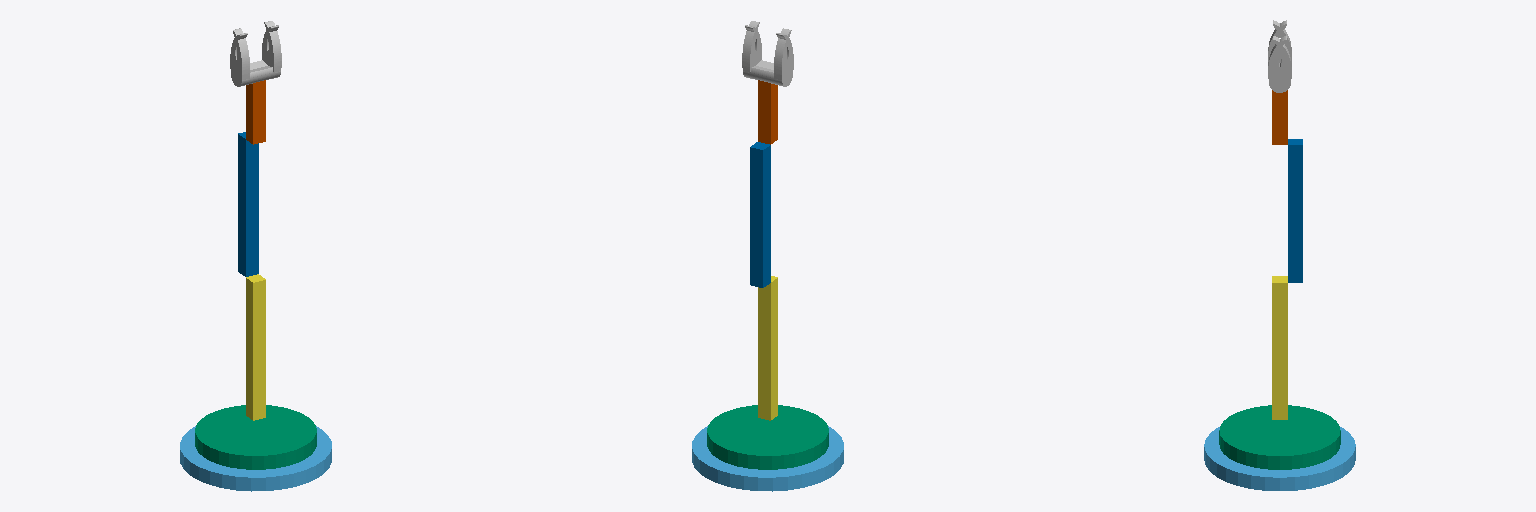
URDF robot description (hdm_robotarm01):
<?xml version="1.0" ?>
<!-- =================================================================================== -->
<!-- |    This document was autogenerated by xacro from model1.xacro                   | -->
<!-- |    EDITING THIS FILE BY HAND IS NOT RECOMMENDED                                 | -->
<!-- =================================================================================== -->
<robot name="hdm_robotarm01">
  <gazebo>
    <plugin filename="libgazebo_ros_control.so" name="gazebo_ros_control">
      <robotNamespace>/</robotNamespace>
    </plugin>
  </gazebo>
  <!-- stationary_base -->
  <gazebo reference="stationary_base">
    <gravity>true</gravity>
    <mu1>0.2</mu1>
    <mu2>0.2</mu2>
    <selfCollide>true</selfCollide>
  </gazebo>
  <!-- spin_base -->
  <gazebo reference="spin_base">
    <gravity>true</gravity>
    <mu1>0.2</mu1>
    <mu2>0.2</mu2>
    <selfCollide>true</selfCollide>
  </gazebo>
  <!-- arm1 -->
  <gazebo reference="arm1">
    <gravity>true</gravity>
    <mu1>0.2</mu1>
    <mu2>0.2</mu2>
    <selfCollide>true</selfCollide>
  </gazebo>
  <!-- arm2 -->
  <gazebo reference="arm2">
    <gravity>true</gravity>
    <mu1>0.2</mu1>
    <mu2>0.2</mu2>
    <selfCollide>true</selfCollide>
  </gazebo>
  <!-- arm3 -->
  <gazebo reference="arm3">
    <gravity>true</gravity>
    <mu1>0.2</mu1>
    <mu2>0.2</mu2>
    <selfCollide>true</selfCollide>
  </gazebo>
  <!-- gripper1 -->
  <gazebo reference="gripper1">
    <gravity>true</gravity>
    <mu1>0.2</mu1>
    <mu2>0.2</mu2>
    <selfCollide>true</selfCollide>
  </gazebo>
  <!-- gripper2 -->
  <gazebo reference="gripper2">
    <gravity>true</gravity>
    <mu1>0.2</mu1>
    <mu2>0.2</mu2>
    <selfCollide>true</selfCollide>
  </gazebo>
  <!-- fix model to world -->
  <link name="world"/>
  <joint name="fixed" type="fixed">
    <parent link="world"/>
    <child link="stationary_base"/>
  </joint>
  <link name="stationary_base">
    <visual>
      <geometry>
        <cylinder length="0.1" radius="0.5"/>
      </geometry>
      <origin rpy="0 0 0" xyz="0 0 0"/>
    </visual>
    <collision>
      <geometry>
        <cylinder length="0.1" radius="0.5"/>
      </geometry>
      <surface>
        <friction>
          <ode>
            <mu>0.5</mu>
            <mu2>0.5</mu2>
          </ode>
        </friction>
        <torsional>
          <coefficient>1</coefficient>
          <surface_radius>1</surface_radius>
          <use_patch_radius>false</use_patch_radius>
        </torsional>
      </surface>
      <origin rpy="0 0 0" xyz="0 0 0"/>
    </collision>
    <inertial>
      <mass value="10.0"/>
      <inertia ixx="0.6333333333333333" ixy="0.0" ixz="0.0" iyy="0.6333333333333333" iyz="0.0" izz="1.25"/>
    </inertial>
  </link>
  <link name="spin_base">
    <visual>
      <geometry>
        <cylinder length="0.1" radius="0.4"/>
      </geometry>
      <origin rpy="0 0 0" xyz="0 0 0.05"/>
    </visual>
    <collision>
      <geometry>
        <cylinder length="0.1" radius="0.4"/>
      </geometry>
      <surface>
        <friction>
          <ode>
            <mu>0.5</mu>
            <mu2>0.5</mu2>
          </ode>
        </friction>
        <torsional>
          <coefficient>1</coefficient>
          <surface_radius>1</surface_radius>
          <use_patch_radius>false</use_patch_radius>
        </torsional>
      </surface>
      <origin rpy="0 0 0" xyz="0 0 0.05"/>
    </collision>
    <inertial>
      <mass value="2.0"/>
      <inertia ixx="0.08166666666666668" ixy="0.0" ixz="0.0" iyy="0.08166666666666668" iyz="0.0" izz="0.16000000000000003"/>
    </inertial>
  </link>
  <joint name="stationary_base_spin_base_joint" type="revolute">
    <axis xyz="0 0 1"/>
    <limit effort="100" lower="-3.14" upper="3.14" velocity="2"/>
    <parent link="stationary_base"/>
    <child link="spin_base"/>
    <origin xyz="0 0 0.06"/>
    <dynamics damping="10.0" friction="0.3"/>
  </joint>
  <transmission name="stationary_base_spin_base_trans">
    <type>
		    	transmission_interface/SimpleTransmission
		    </type>
    <actuator name="stationary_base_spin_base_actuator">
      <hardwareInterface>
                    hardware_interface/EffortJointInterface
                </hardwareInterface>
      <mechanicalReduction>
		    		1
		    	</mechanicalReduction>
    </actuator>
    <joint name="stationary_base_spin_base_joint">
      <hardwareInterface>
                    hardware_interface/EffortJointInterface
                </hardwareInterface>
    </joint>
  </transmission>
  <link name="arm1">
    <visual>
      <geometry>
        <box size="1 0.1 0.1"/>
      </geometry>
      <origin rpy="0 1.57 0" xyz="0 0 0.5"/>
    </visual>
    <collision>
      <geometry>
        <box size="1 0.1 0.1"/>
      </geometry>
      <surface>
        <friction>
          <ode>
            <mu>0.5</mu>
            <mu2>0.5</mu2>
          </ode>
        </friction>
      </surface>
      <origin rpy="0 1.57 0" xyz="0 0 0.5"/>
    </collision>
    <inertial>
      <mass value="0.5"/>
      <inertia ixx="0.0008333333333333335" ixy="0.0" ixz="0.0" iyy="0.042083333333333334" iyz="0.0" izz="0.042083333333333334"/>
    </inertial>
  </link>
  <joint name="spin_base_arm1_joint" type="revolute">
    <axis xyz="0 1 0"/>
    <limit effort="100" lower="-1.57" upper="1.57" velocity="2"/>
    <parent link="spin_base"/>
    <child link="arm1"/>
    <origin xyz="0 0 0.2"/>
    <dynamics damping="10.0" friction="0.3"/>
  </joint>
  <transmission name="spin_base_arm1_trans">
    <type>
		    	transmission_interface/SimpleTransmission
		    </type>
    <actuator name="spin_base_arm1_actuator">
      <hardwareInterface>
                    hardware_interface/EffortJointInterface
                </hardwareInterface>
      <mechanicalReduction>
		    		1
		    	</mechanicalReduction>
    </actuator>
    <joint name="spin_base_arm1_joint">
      <hardwareInterface>
                    hardware_interface/EffortJointInterface
                </hardwareInterface>
    </joint>
  </transmission>
  <link name="arm2">
    <visual>
      <geometry>
        <box size="1 0.1 0.1"/>
      </geometry>
      <origin rpy="0 1.57 0" xyz="0 0.05 0.5"/>
    </visual>
    <collision>
      <geometry>
        <box size="1 0.1 0.1"/>
      </geometry>
      <surface>
        <friction>
          <ode>
            <mu>0.5</mu>
            <mu2>0.5</mu2>
          </ode>
        </friction>
      </surface>
      <origin rpy="0 1.57 0" xyz="0 0.05 0.5"/>
    </collision>
    <inertial>
      <mass value="0.5"/>
      <inertia ixx="0.0008333333333333335" ixy="0.0" ixz="0.0" iyy="0.042083333333333334" iyz="0.0" izz="0.042083333333333334"/>
    </inertial>
  </link>
  <joint name="arm1_arm2_joint" type="revolute">
    <axis xyz="0 1 0"/>
    <limit effort="100" lower="-3.14" upper="3.14" velocity="2"/>
    <parent link="arm1"/>
    <child link="arm2"/>
    <origin xyz="0 0.05 1"/>
    <dynamics damping="10.0" friction="0.3"/>
  </joint>
  <transmission name="arm1_arm2_trans">
    <type>
		    	transmission_interface/SimpleTransmission
		    </type>
    <actuator name="arm1_arm2_actuator">
      <hardwareInterface>
                    hardware_interface/EffortJointInterface
                </hardwareInterface>
      <mechanicalReduction>
		    		1
		    	</mechanicalReduction>
    </actuator>
    <joint name="arm1_arm2_joint">
      <hardwareInterface>
                    hardware_interface/EffortJointInterface
                </hardwareInterface>
    </joint>
  </transmission>
  <link name="arm3">
    <visual>
      <geometry>
        <box size="0.5 0.1 0.1"/>
      </geometry>
      <origin rpy="0 1.57 0" xyz="0 -0.05 0.25"/>
    </visual>
    <collision>
      <geometry>
        <box size="0.5 0.1 0.1"/>
      </geometry>
      <surface>
        <friction>
          <ode>
            <mu>0.5</mu>
            <mu2>0.5</mu2>
          </ode>
        </friction>
      </surface>
      <origin rpy="0 1.57 0" xyz="0 -0.05 0.25"/>
    </collision>
    <inertial>
      <mass value="0.5"/>
      <inertia ixx="0.0008333333333333335" ixy="0.0" ixz="0.0" iyy="0.010833333333333334" iyz="0.0" izz="0.010833333333333334"/>
    </inertial>
  </link>
  <joint name="arm2_arm3_joint" type="revolute">
    <axis xyz="0 1 0"/>
    <limit effort="100" lower="-3.14" upper="3.14" velocity="2"/>
    <parent link="arm2"/>
    <child link="arm3"/>
    <origin xyz="0 0 1"/>
    <dynamics damping="10.0" friction="0.3"/>
  </joint>
  <transmission name="arm2_arm3_trans">
    <type>
		    	transmission_interface/SimpleTransmission
		    </type>
    <actuator name="arm2_arm3_actuator">
      <hardwareInterface>
                    hardware_interface/EffortJointInterface
                </hardwareInterface>
      <mechanicalReduction>
		    		1
		    	</mechanicalReduction>
    </actuator>
    <joint name="arm2_arm3_joint">
      <hardwareInterface>
                    hardware_interface/EffortJointInterface
                </hardwareInterface>
    </joint>
  </transmission>
  <link name="gripper1">
    <visual>
      <geometry>
        <mesh filename="package://hdm_robotarm01/mesh/gripper1.dae" scale="3 3 3"/>
      </geometry>
      <origin rpy="1.57 0 1.57" xyz="-0.15 0 0"/>
    </visual>
    <collision>
      <geometry>
        <mesh filename="package://hdm_robotarm01/mesh/gripper1.dae" scale="3 3 3"/>
      </geometry>
      <surface>
        <friction>
          <ode>
            <mu>0.8</mu>
            <mu2>0.8</mu2>
          </ode>
        </friction>
      </surface>
      <origin rpy="1.57 0 1.57" xyz="-0.15 0 0"/>
    </collision>
    <inertial>
      <mass value="0.1"/>
      <inertia ixx="0.01" ixy="0.0" ixz="0.0" iyy="0.01" iyz="0.0" izz="0.01"/>
    </inertial>
  </link>
  <joint name="arm3_gripper1_joint" type="revolute">
    <axis xyz="-1 0 0"/>
    <limit effort="100" lower="-3.14" upper="0" velocity="2"/>
    <parent link="arm3"/>
    <child link="gripper1"/>
    <origin xyz="0 -0.05 0.5"/>
    <dynamics damping="10.0" friction="0.3"/>
  </joint>
  <transmission name="arm3_gripper1_trans">
    <type>
		    	transmission_interface/SimpleTransmission
		    </type>
    <actuator name="arm3_gripper1_actuator">
      <hardwareInterface>
                    hardware_interface/EffortJointInterface
                </hardwareInterface>
      <mechanicalReduction>
		    		1
		    	</mechanicalReduction>
    </actuator>
    <joint name="arm3_gripper1_joint">
      <hardwareInterface>
                    hardware_interface/EffortJointInterface
                </hardwareInterface>
    </joint>
  </transmission>
  <link name="gripper2">
    <visual>
      <geometry>
        <mesh filename="package://hdm_robotarm01/mesh/gripper2.dae" scale="3 3 3"/>
      </geometry>
      <origin rpy="1.57 0 1.57" xyz="-0.15 0 0"/>
    </visual>
    <collision>
      <geometry>
        <mesh filename="package://hdm_robotarm01/mesh/gripper2.dae" scale="3 3 3"/>
      </geometry>
      <surface>
        <friction>
          <ode>
            <mu>0.8</mu>
            <mu2>0.8</mu2>
          </ode>
        </friction>
      </surface>
      <origin rpy="1.57 0 1.57" xyz="-0.15 0 0"/>
    </collision>
    <inertial>
      <mass value="0.1"/>
      <inertia ixx="0.01" ixy="0.0" ixz="0.0" iyy="0.01" iyz="0.0" izz="0.01"/>
    </inertial>
  </link>
  <joint name="arm3_gripper2_joint" type="revolute">
    <axis xyz="1 0 0"/>
    <limit effort="100" lower="-3.14" upper="0" velocity="2"/>
    <parent link="arm3"/>
    <child link="gripper2"/>
    <origin xyz="0 -0.05 0.5"/>
    <dynamics damping="10.0" friction="0.3"/>
  </joint>
  <transmission name="arm3_gripper2_trans">
    <type>
		    	transmission_interface/SimpleTransmission
		    </type>
    <actuator name="arm3_gripper2_actuator">
      <hardwareInterface>
                    hardware_interface/EffortJointInterface
                </hardwareInterface>
      <mechanicalReduction>
		    		1
		    	</mechanicalReduction>
    </actuator>
    <joint name="arm3_gripper2_joint">
      <hardwareInterface>
                    hardware_interface/EffortJointInterface
                </hardwareInterface>
    </joint>
  </transmission>
</robot>

--- What the picture shows (computed from the rendered views, not written in the file) ---
Views: 3 orthographic renders of the robot side by side, from view 1: azimuth 30°, elevation 25°; view 2: azimuth 150°, elevation 25°; view 3: azimuth 270°, elevation 25°.
Robot: hdm_robotarm01 — 8 links, 7 joints (6 revolute, 1 fixed); root link world; default pose: every joint at zero.
Links seen in each view (by area): view 1: spin_base, stationary_base, arm2, arm1, gripper1, arm3, gripper2; view 2: spin_base, stationary_base, arm2, arm1, gripper2, arm3, gripper1; view 3: spin_base, stationary_base, arm1, arm2, arm3, gripper1, gripper2.
Link boxes in pixels (box(x1,y1,x2,y2)): spin_base: box(195, 405, 316, 469); stationary_base: box(180, 426, 331, 491); arm2: box(238, 132, 258, 276); arm1: box(246, 274, 265, 420); gripper1: box(231, 21, 281, 86); arm3: box(246, 80, 265, 144); gripper2: box(230, 25, 280, 86); spin_base: box(707, 405, 828, 469); stationary_base: box(692, 426, 843, 491); arm2: box(750, 142, 770, 287); arm1: box(758, 276, 777, 420); gripper2: box(742, 21, 792, 85); arm3: box(758, 80, 777, 144); gripper1: box(743, 25, 793, 86); spin_base: box(1219, 405, 1340, 469); stationary_base: box(1204, 427, 1355, 490); arm1: box(1272, 276, 1287, 419); arm2: box(1288, 139, 1302, 282); arm3: box(1272, 90, 1287, 144); gripper1: box(1268, 20, 1290, 92); gripper2: box(1269, 20, 1291, 92).
Size in the robot's own frame: 1 by 1 by 3.13 metres.
2 mesh visuals loaded from 2 distinct referenced files (2 Collada DAE).